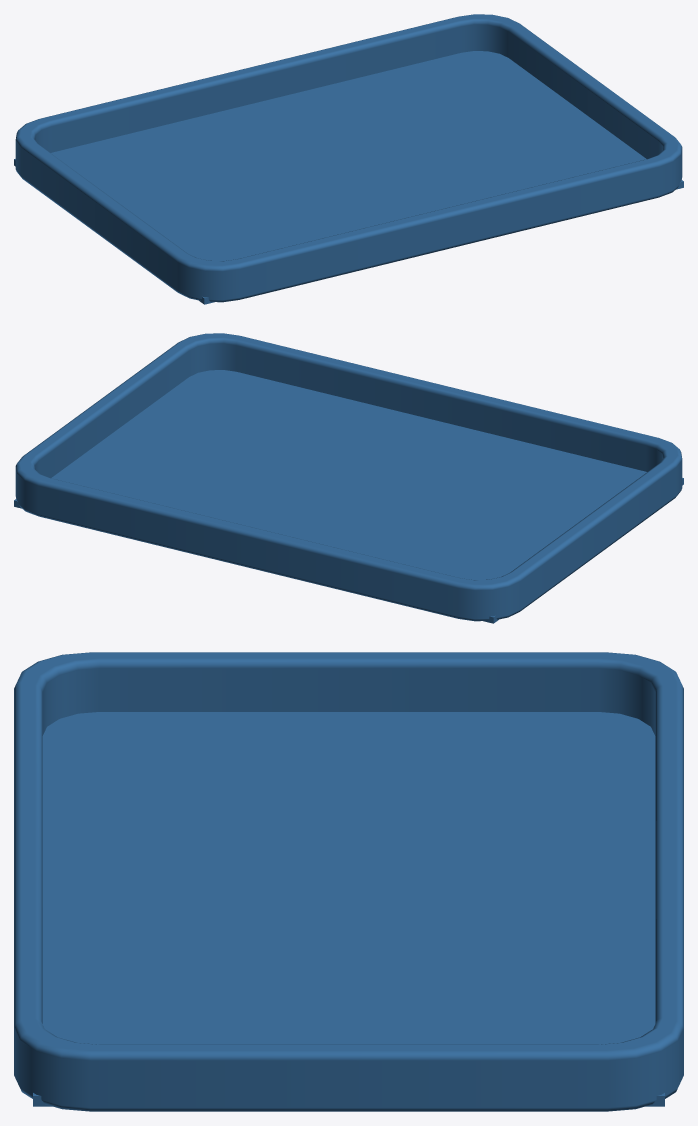
File: TrayBlue.glb
The picture shows the model from 3 angles, top to bottom: view 1: azimuth 30°, elevation 25°; view 2: azimuth 150°, elevation 25°; view 3: azimuth 270°, elevation 25°; orthographic projection. The views are drawn at different scales.
Visible parts, largest first — view 1: TrayBlue_Body; view 2: TrayBlue_Body; view 3: TrayBlue_Body.
Part boxes in pixels (bbox=[...]): TrayBlue_Body: bbox=[14, 14, 683, 304]; TrayBlue_Body: bbox=[14, 333, 683, 623]; TrayBlue_Body: bbox=[14, 652, 683, 1111].
Bounding box in the file's own units: 0.5 × 0.035 × 0.35.
